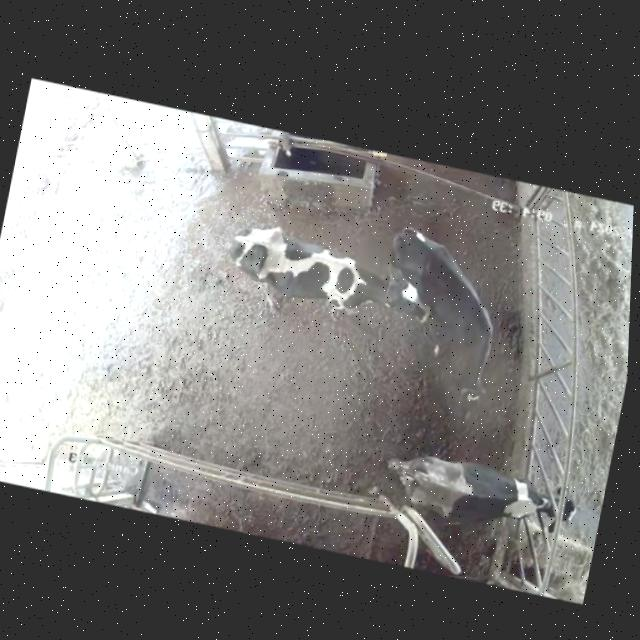eat: (473, 459, 602, 563)
stand: (351, 211, 532, 428), (189, 210, 443, 362)
